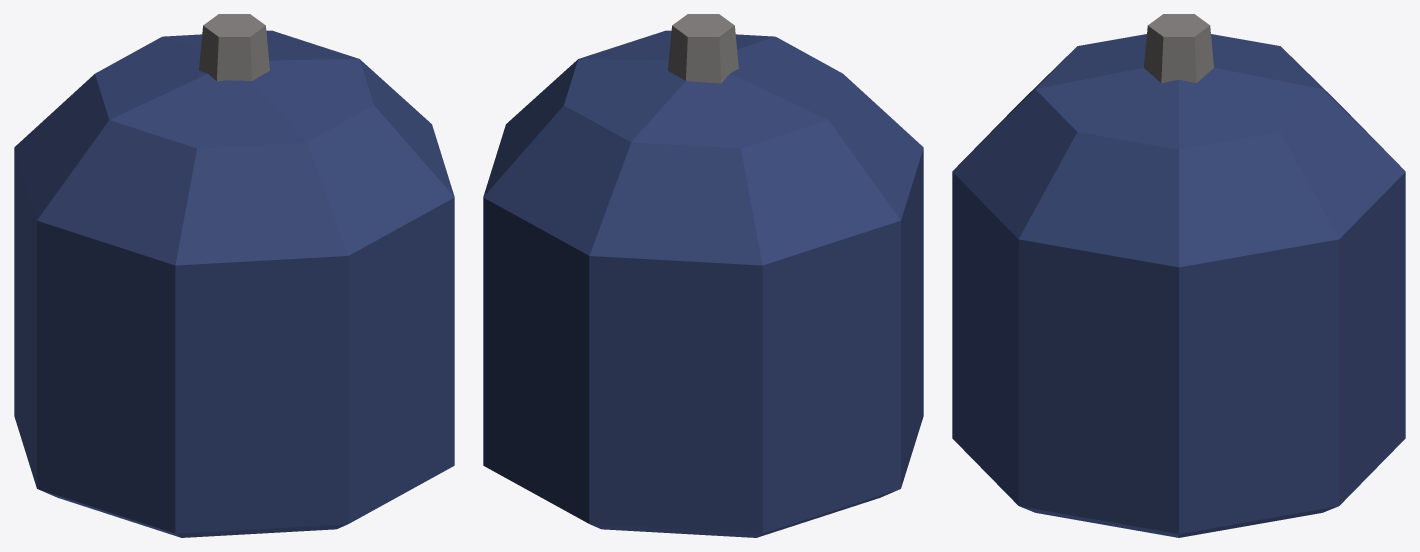
Rendered from survival_gas-bottle.fbx.
3 renders of one model, left to right at view 1: azimuth 30°, elevation 25°; view 2: azimuth 150°, elevation 25°; view 3: azimuth 270°, elevation 25°, orthographic.
Visible parts, largest first — view 1: survival_gas_bottle; view 2: survival_gas_bottle; view 3: survival_gas_bottle.
Part boxes in pixels (x1,y1,x2,y2): survival_gas_bottle: (14, 14, 454, 537); survival_gas_bottle: (483, 14, 923, 537); survival_gas_bottle: (952, 14, 1405, 537).
Bounding box in the file's own units: 192 × 200 × 192.
